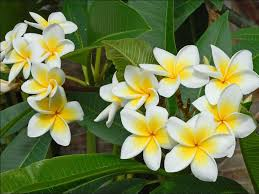frangipani: (168, 114, 228, 183)
